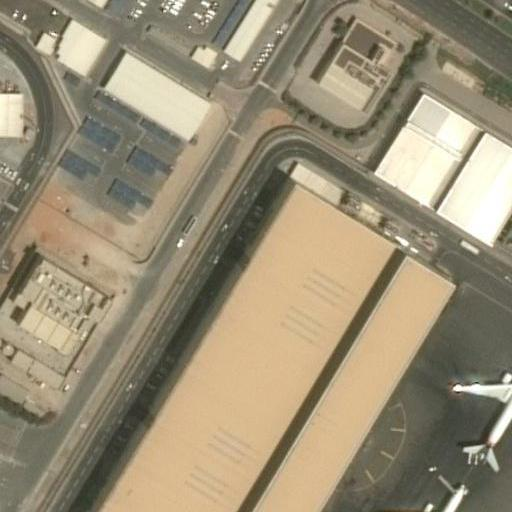Aircraft: (445, 354, 512, 467), (374, 479, 487, 512)
